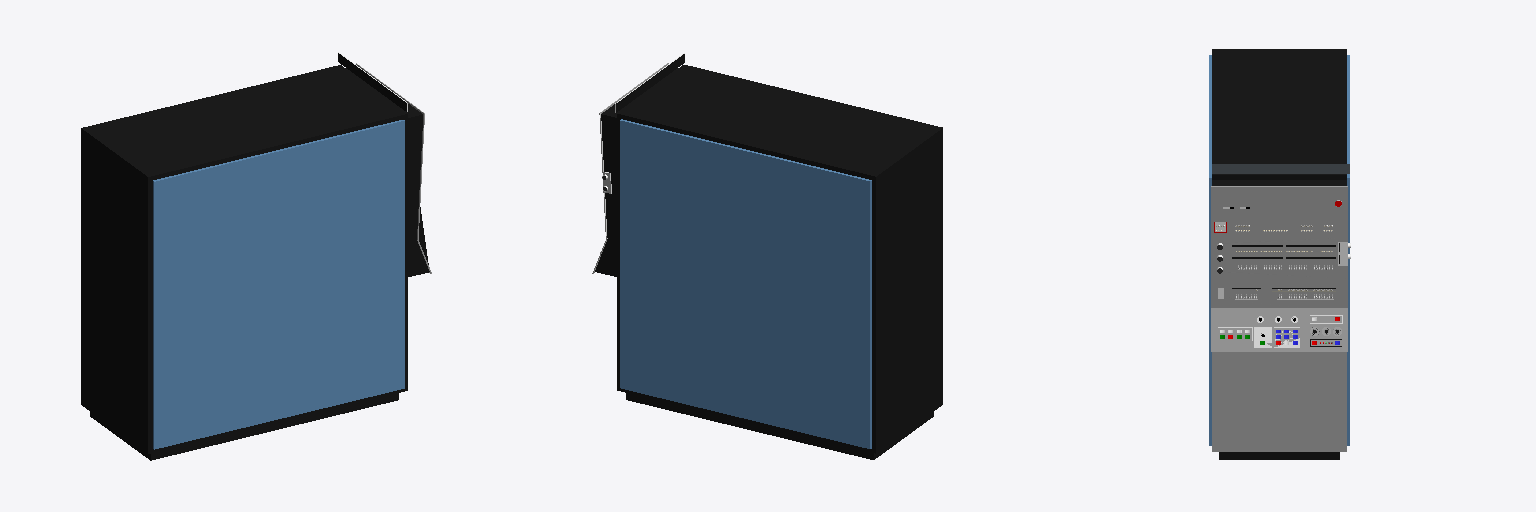
The picture shows the model from 3 angles: view 1: azimuth 30°, elevation 25°; view 2: azimuth 150°, elevation 25°; view 3: azimuth 270°, elevation 25°; orthographic projection.
Visible parts, largest first — view 1: Mesh253 G_360_Control_Panel1 Model, Mesh254 G_360_Control_Panel1 Model; view 2: Mesh253 G_360_Control_Panel1 Model, Mesh254 G_360_Control_Panel1 Model; view 3: Mesh253 G_360_Control_Panel1 Model, Mesh254 G_360_Control_Panel1 Model.
Boxes of the visible parts, box(x1,y1,x2,y2) form: Mesh253 G_360_Control_Panel1 Model: box(81, 63, 431, 460); Mesh254 G_360_Control_Panel1 Model: box(338, 52, 407, 111); Mesh253 G_360_Control_Panel1 Model: box(592, 63, 942, 459); Mesh254 G_360_Control_Panel1 Model: box(615, 53, 684, 112); Mesh253 G_360_Control_Panel1 Model: box(1209, 49, 1350, 459); Mesh254 G_360_Control_Panel1 Model: box(1212, 164, 1349, 173).
Size of the model in its own units: 77.7 by 78.34 by 33.7.
18 materials, 1 textured.